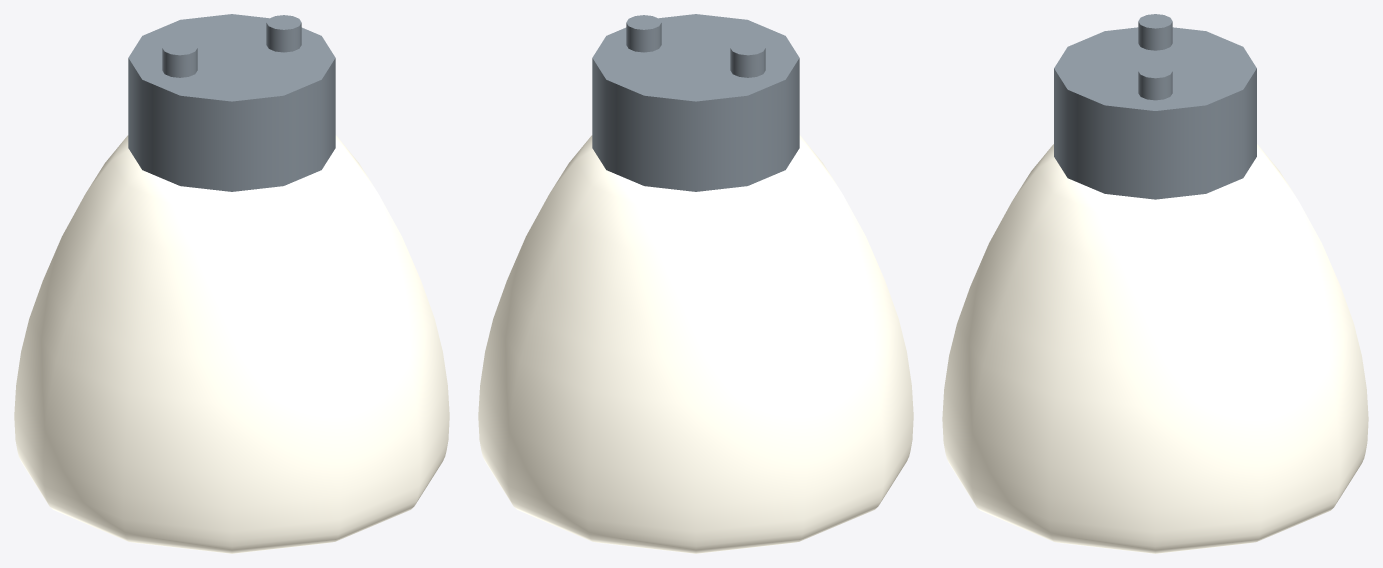
Rendered from source.glb.
3 renders of one model, left to right at view 1: azimuth 30°, elevation 25°; view 2: azimuth 150°, elevation 25°; view 3: azimuth 270°, elevation 25°, orthographic. The views are drawn at different scales.
Visible parts, largest first — view 1: Emitters, 机加工金属; view 2: Emitters, 机加工金属; view 3: Emitters, 机加工金属.
Part boxes in pixels (bbox=[...]): Emitters: bbox=[14, 135, 449, 553]; 机加工金属: bbox=[128, 14, 335, 191]; Emitters: bbox=[478, 135, 913, 553]; 机加工金属: bbox=[592, 14, 799, 191]; Emitters: bbox=[942, 144, 1368, 553]; 机加工金属: bbox=[1054, 14, 1256, 199].
Bounding box in the file's own units: 0.0504 × 0.0563 × 0.0504.
